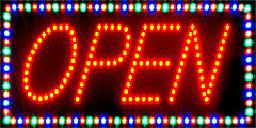LED: (1, 2, 255, 128)
